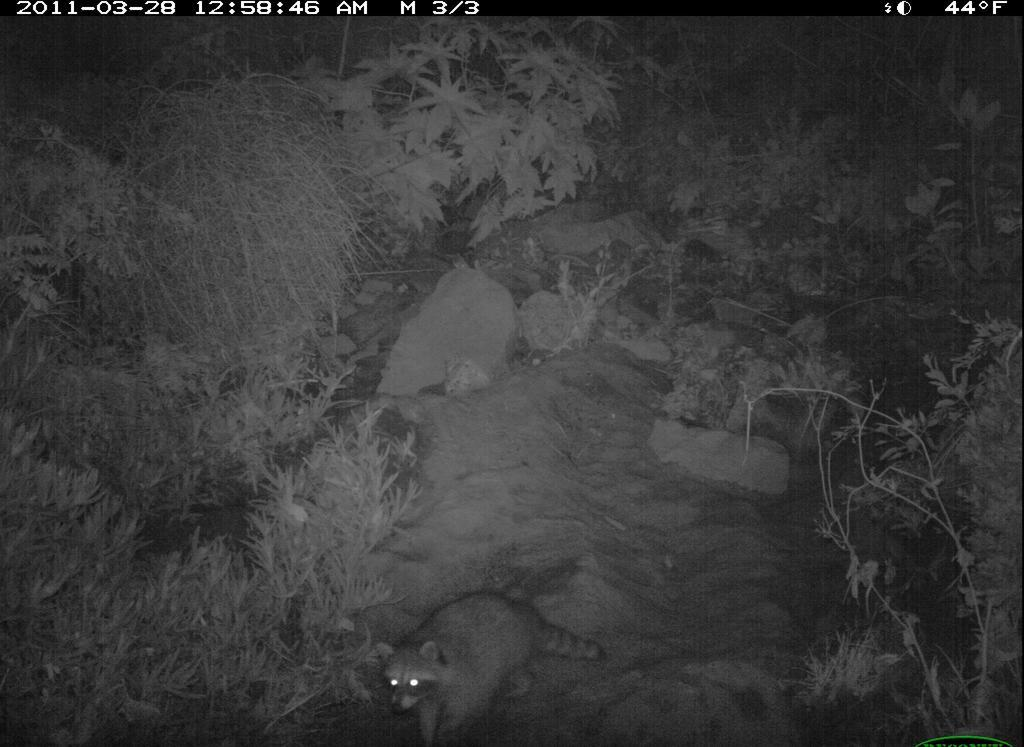raccoon: (360, 596, 648, 742)
